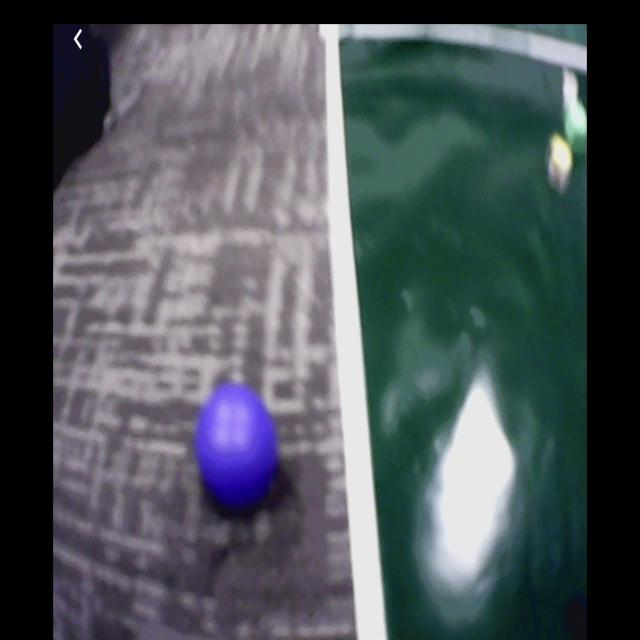ball: (198, 383, 277, 502)
